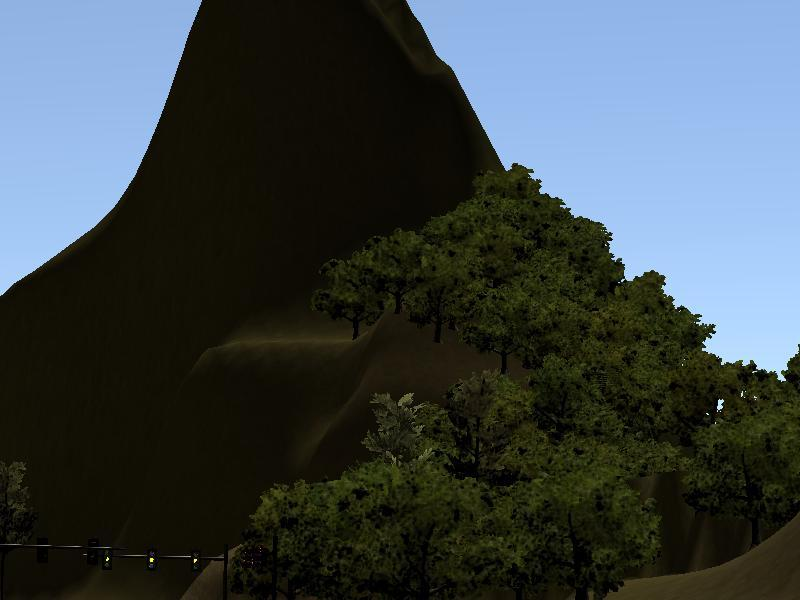Yellow: (146, 548, 156, 571), (191, 551, 201, 572), (103, 550, 111, 571)
